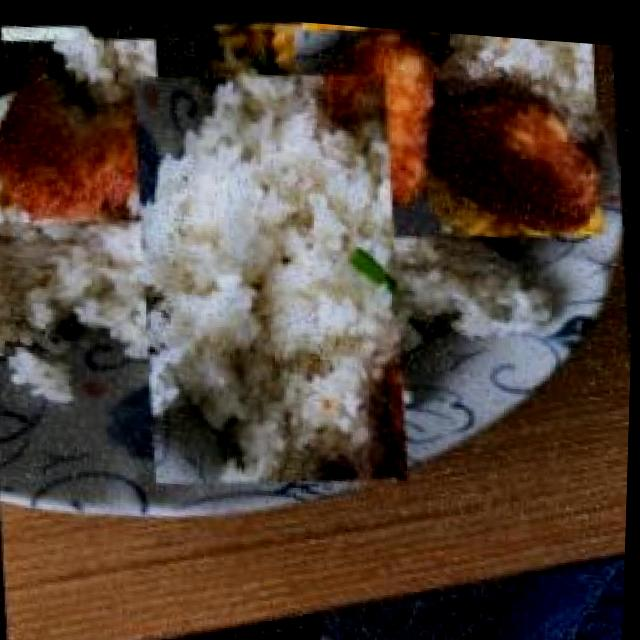rice: (90, 86, 456, 465)
triangle_hash_brown: (290, 17, 610, 251), (0, 28, 174, 228)
